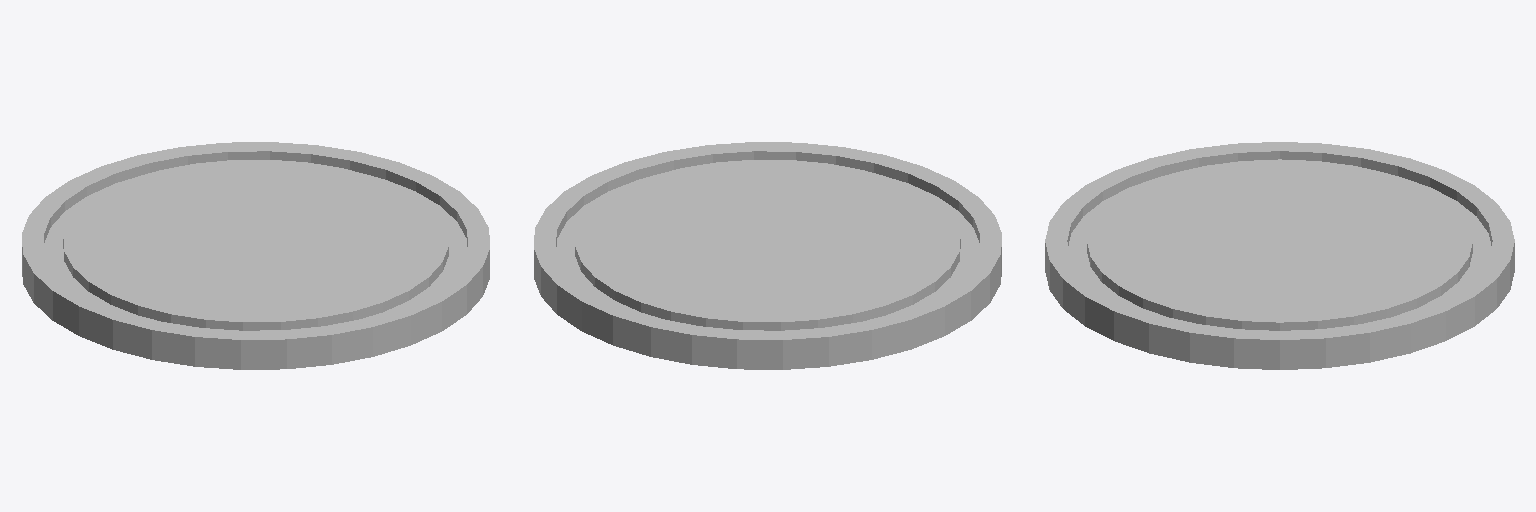
The model's file is egg-platform.obj.
3 renders of one model, left to right at view 1: azimuth 30°, elevation 25°; view 2: azimuth 150°, elevation 25°; view 3: azimuth 270°, elevation 25°, orthographic.
Visible parts, largest first — view 1: Cylinder.001; view 2: Cylinder.001; view 3: Cylinder.001.
Boxes of the visible parts, box(x1,y1,x2,y2) form: Cylinder.001: box(22, 142, 489, 369); Cylinder.001: box(534, 142, 1001, 369); Cylinder.001: box(1045, 142, 1514, 369).
Bounding box in the file's own units: 2 × 0.1406 × 2.